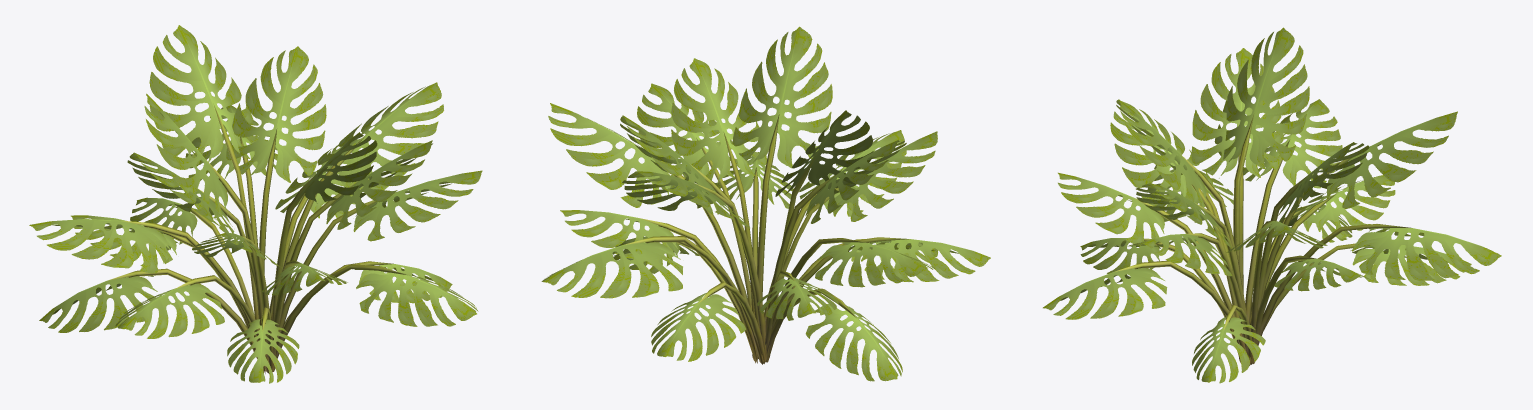
The model's file is Monstera 01.obj.
The picture shows the model from 3 angles, left to right: view 1: azimuth 30°, elevation 25°; view 2: azimuth 150°, elevation 25°; view 3: azimuth 270°, elevation 25°; orthographic projection.
Visible parts, largest first — view 1: tree; view 2: tree; view 3: tree.
Boxes of the visible parts, <box> form: tree: <box>29,25,482,383</box>; tree: <box>541,26,990,381</box>; tree: <box>1043,27,1501,383</box>.
Size of the model in its own units: 162 by 109 by 164.
1 material, 1 textured.
